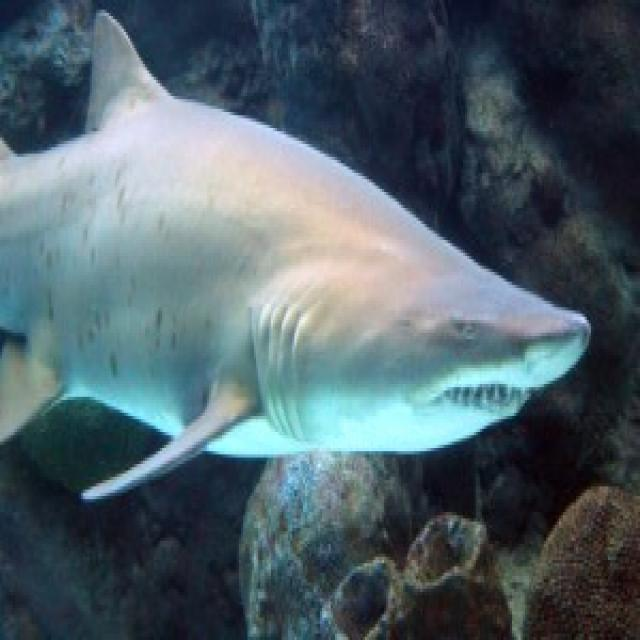Shark: (0, 3, 605, 501)
